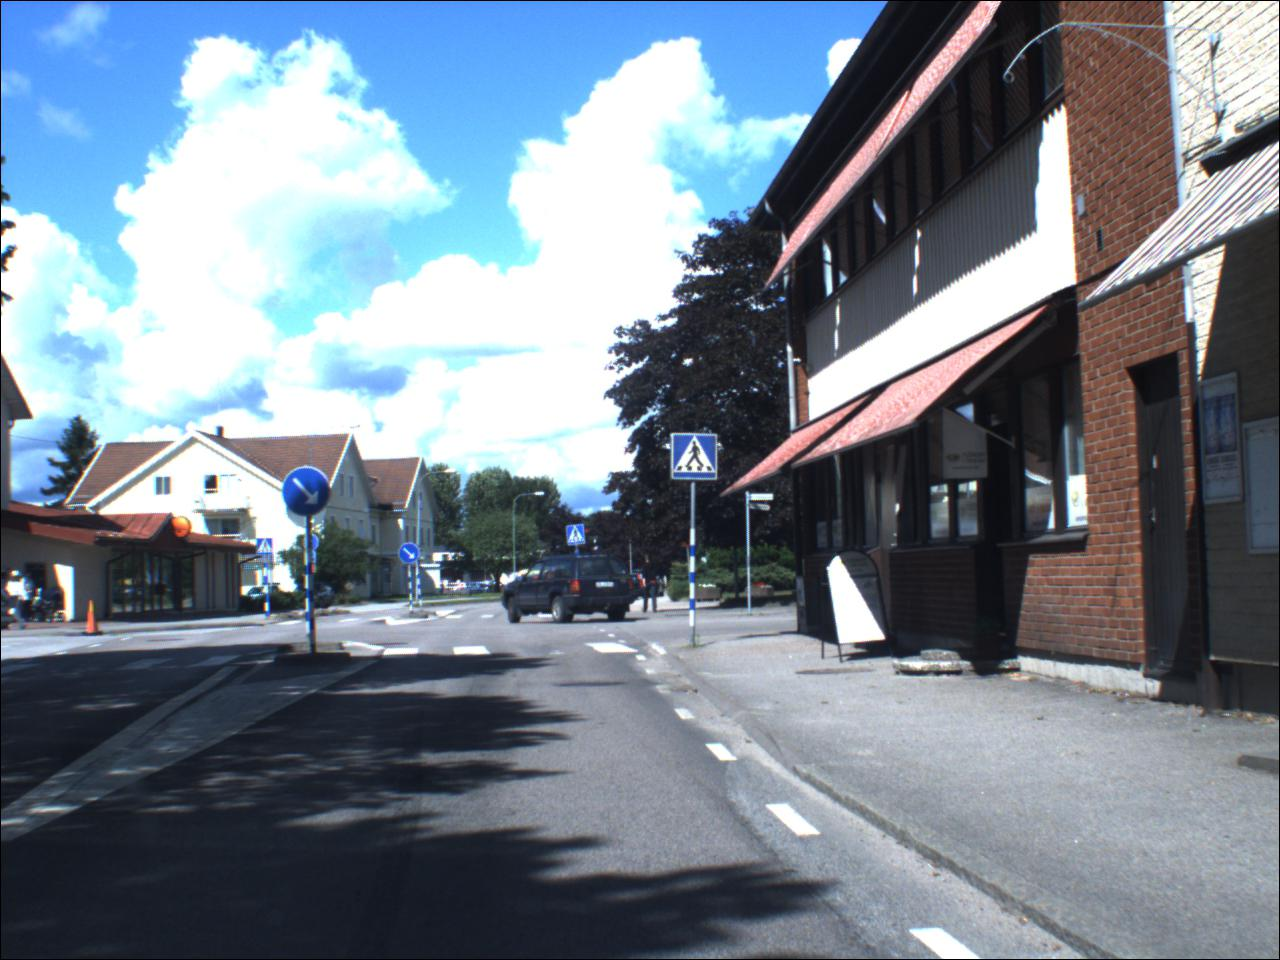PASS_RIGHT_SIDE: (285, 467, 334, 518), (400, 544, 423, 568)
PEDESTRIAN_CROSSING: (673, 434, 720, 482), (568, 527, 588, 547), (260, 541, 275, 557)
